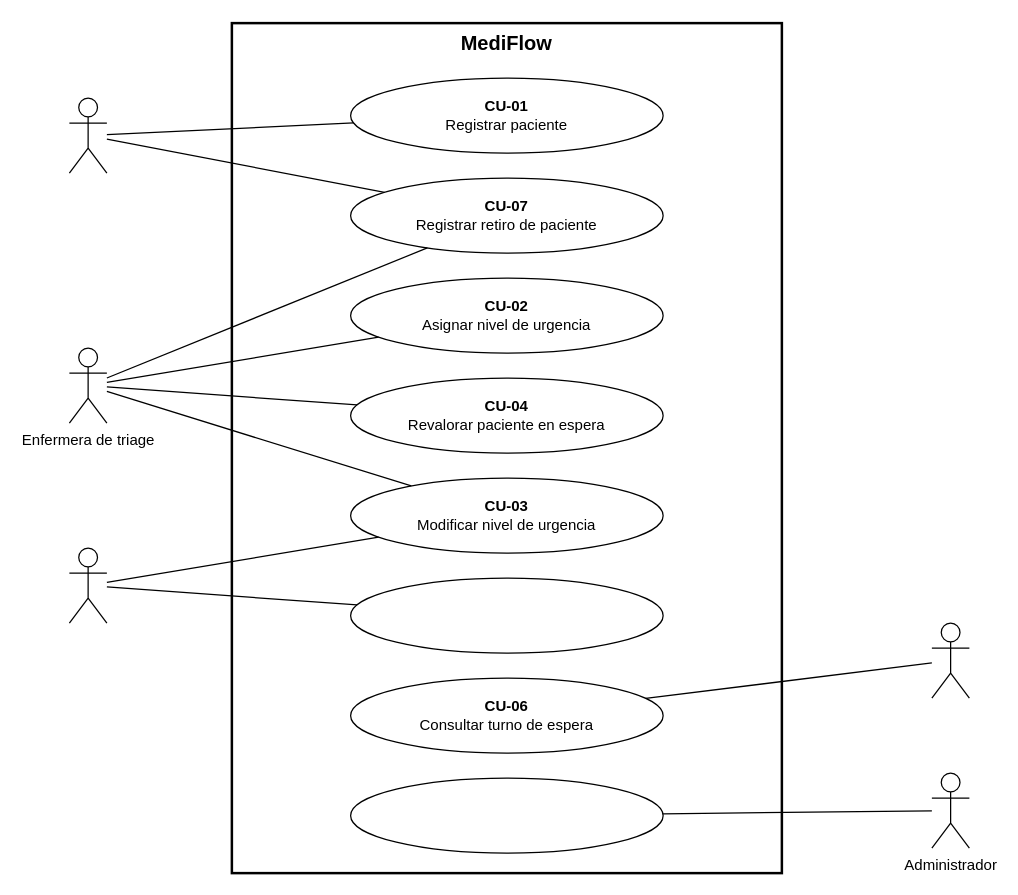
Some shapes in this 1018 by 895 pixel diagram are drawn without their labels. Here are the shapes that lost their labels. From the top down, the centre of each, then its label:
[87,135]: Recepcionista
[87,585]: Médico
[506,615]: CU-05 Llamar al siguiente paciente
[950,660]: Paciente
[506,815]: CU-08 Supervisar ocupación de la sala
